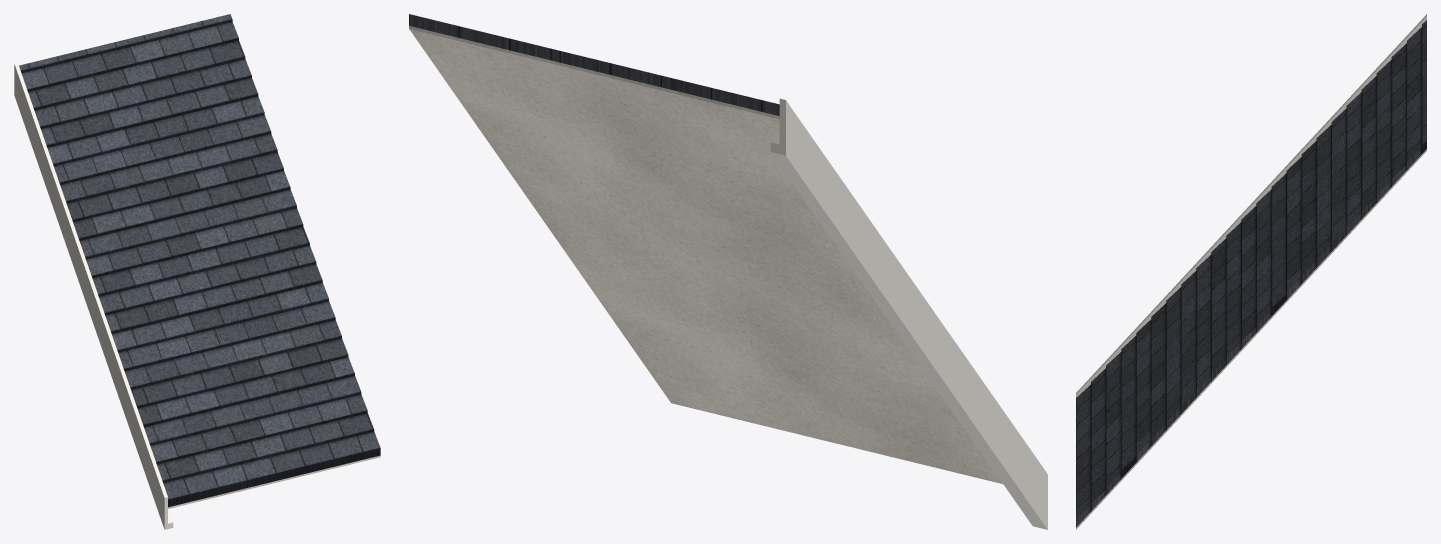
File: roof_valley_a.glb
The picture shows the model from 3 angles, left to right: view 1: azimuth 30°, elevation 25°; view 2: azimuth 150°, elevation 25°; view 3: azimuth 270°, elevation 25°; orthographic projection. The views are drawn at different scales.
Parts seen in each view (by area): view 1: roof_valley_a_shingles, roof_valley_a_trim, roof_valley_a_plaster; view 2: roof_valley_a_plaster, roof_valley_a_trim, roof_valley_a_shingles; view 3: roof_valley_a_shingles, roof_valley_a_trim, roof_valley_a_plaster.
Boxes of the visible parts, x1,y1,x2,y2 form: roof_valley_a_shingles: (19, 14, 380, 507); roof_valley_a_trim: (14, 62, 173, 529); roof_valley_a_plaster: (168, 455, 380, 508); roof_valley_a_plaster: (409, 26, 1002, 483); roof_valley_a_trim: (770, 98, 1047, 529); roof_valley_a_shingles: (409, 14, 779, 115); roof_valley_a_shingles: (1076, 20, 1426, 527); roof_valley_a_trim: (1076, 14, 1426, 397); roof_valley_a_plaster: (1076, 149, 1426, 529).
Bounding box in the file's own units: 2.49 × 3.93 × 3.
Materials: 3 (2 with a texture image).
